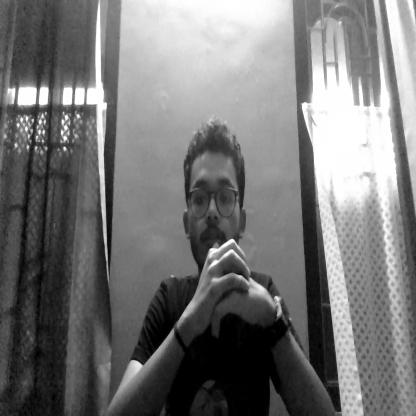Normal: (182, 121, 256, 292)
